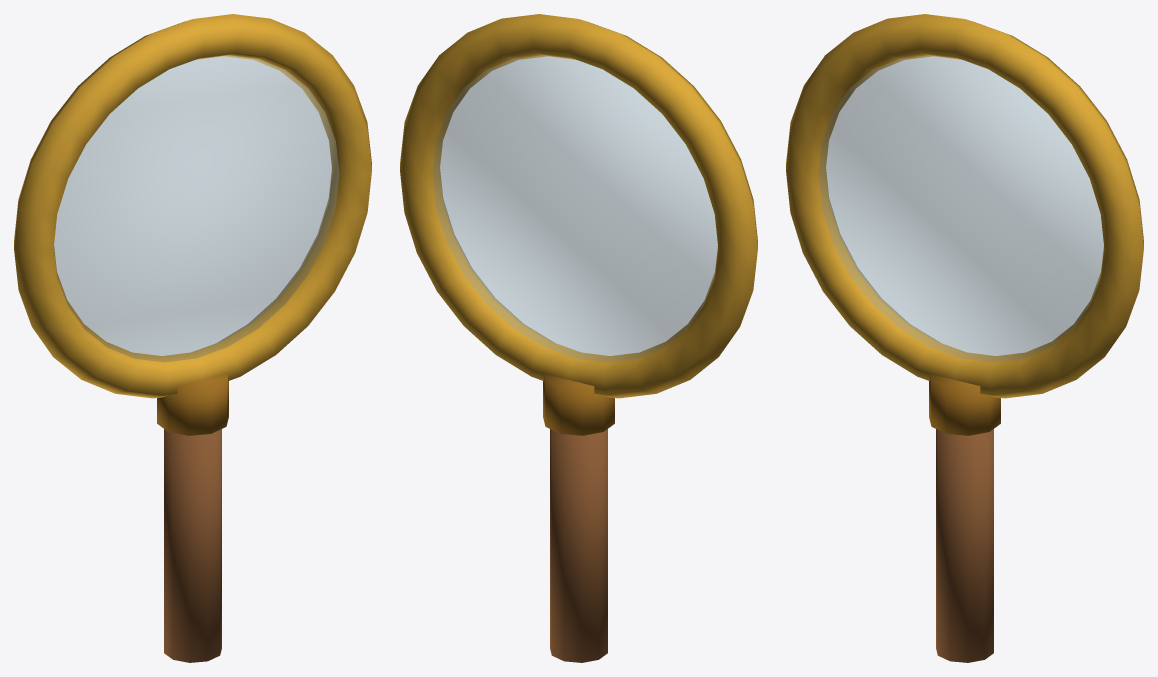
Rendered from lens.glb.
The picture shows the model from 3 angles, left to right: view 1: azimuth 30°, elevation 25°; view 2: azimuth 150°, elevation 25°; view 3: azimuth 330°, elevation 25°; orthographic projection.
Visible parts, largest first — view 1: lens-glass, lens-rim, lens-handle, lens-ferrule; view 2: lens-glass, lens-rim, lens-handle, lens-ferrule; view 3: lens-glass, lens-rim, lens-handle, lens-ferrule.
Boxes of the visible parts, left/top/right/bottom form: lens-glass: left=54, top=55, right=338, bottom=361; lens-rim: left=14, top=14, right=371, bottom=398; lens-handle: left=164, top=429, right=221, bottom=662; lens-ferrule: left=157, top=374, right=228, bottom=435; lens-glass: left=433, top=55, right=717, bottom=361; lens-rim: left=400, top=14, right=757, bottom=398; lens-handle: left=550, top=429, right=607, bottom=662; lens-ferrule: left=543, top=374, right=614, bottom=435; lens-glass: left=819, top=55, right=1103, bottom=361; lens-rim: left=786, top=14, right=1143, bottom=398; lens-handle: left=936, top=429, right=993, bottom=662; lens-ferrule: left=929, top=374, right=1000, bottom=435.
Bounding box in the file's own units: 0.236 × 0.398 × 0.042.
